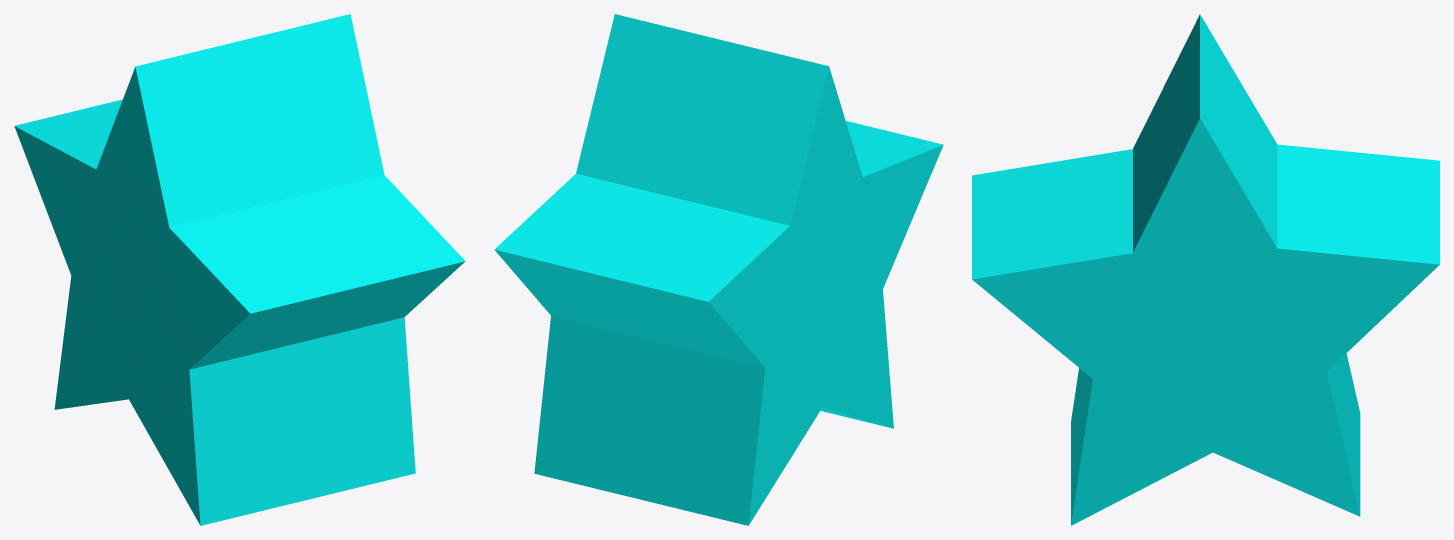
Rendered from star.fbx.
The picture shows the model from 3 angles, left to right: view 1: azimuth 30°, elevation 25°; view 2: azimuth 150°, elevation 25°; view 3: azimuth 270°, elevation 25°; orthographic projection.
Visible parts, largest first — view 1: Circle; view 2: Circle; view 3: Circle.
Part boxes in pixels (x1,y1,x2,y2): Circle: (14,14,465,525); Circle: (494,14,943,525); Circle: (972,14,1439,525).
Size of the model in its own units: 90 by 165 by 171.
